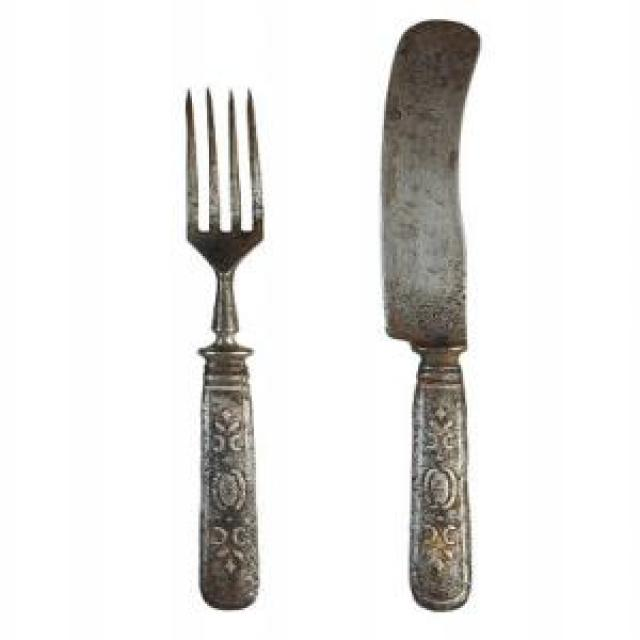knife: (382, 19, 494, 611)
